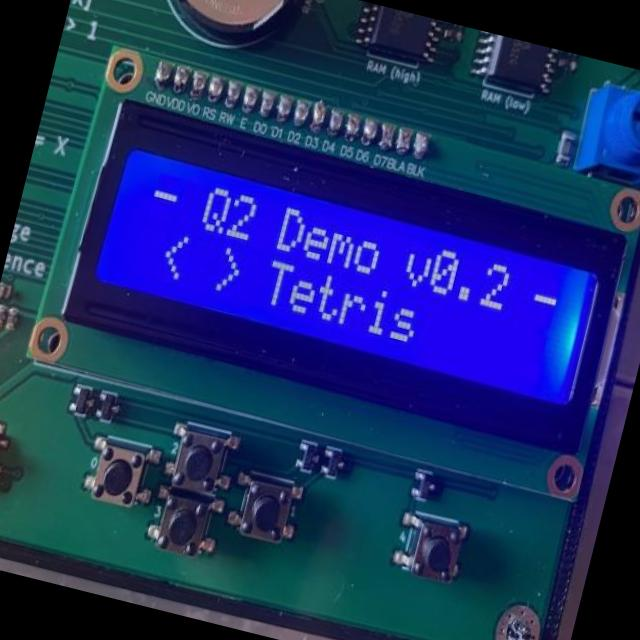IC: (471, 31, 565, 103), (356, 3, 438, 69)
potentiometer: (563, 68, 640, 200)
resistor: (3, 304, 27, 336), (552, 132, 574, 162), (0, 301, 12, 334)
transistor: (410, 468, 440, 506), (66, 384, 95, 420), (94, 388, 122, 422), (319, 446, 346, 481), (295, 441, 320, 478)
